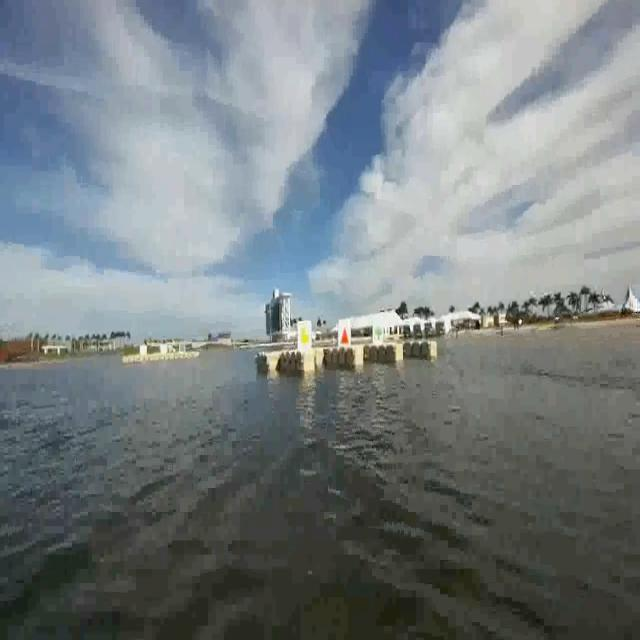blue-cross: (372, 311, 386, 344)
red-dot: (337, 320, 350, 346)
yellow-duck: (295, 318, 311, 348)
